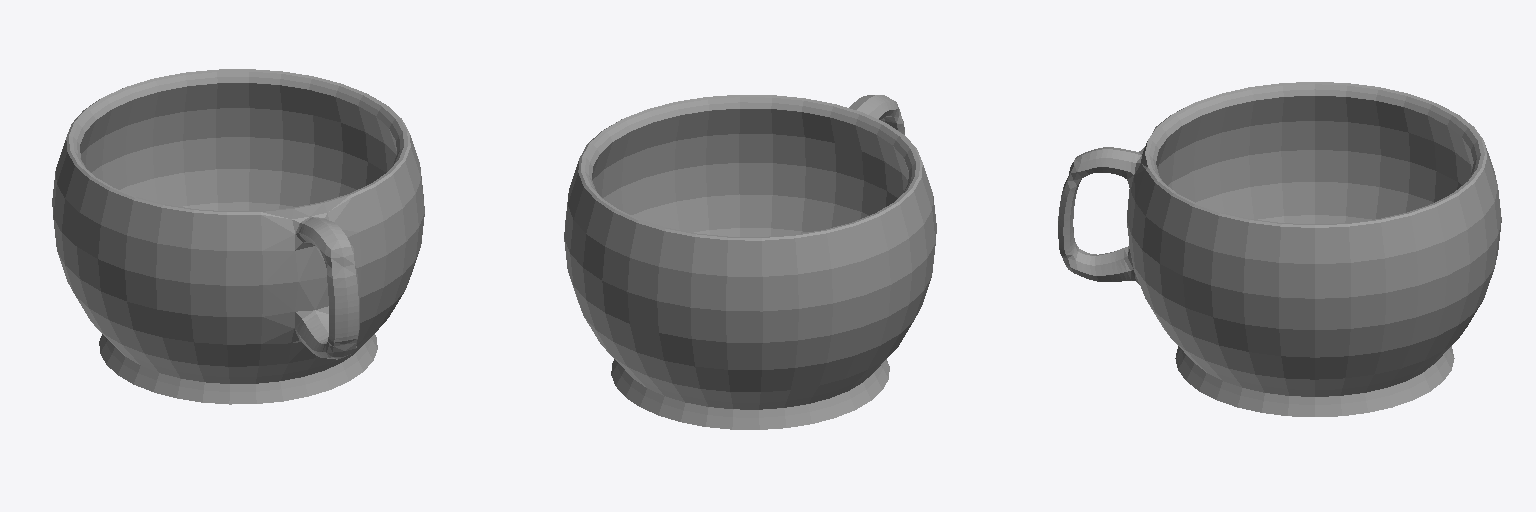
Rendered from Teacup.obj.
3 views of the same model, side by side, from view 1: azimuth 30°, elevation 25°; view 2: azimuth 150°, elevation 25°; view 3: azimuth 270°, elevation 25° (orthographic).
Parts seen in each view (by area): view 1: Cube; view 2: Cube; view 3: Cube.
Boxes of the visible parts, <box> form: Cube: <box>52,69,424,404</box>; Cube: <box>564,95,936,429</box>; Cube: <box>1058,82,1501,416</box>.
Bounding box in the file's own units: 2 × 1.21 × 2.37.